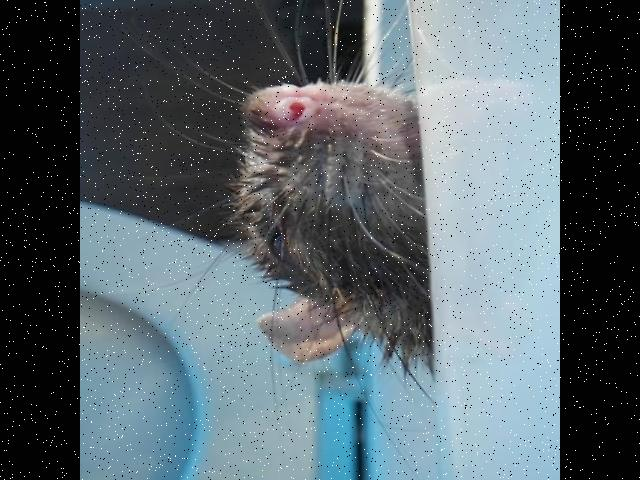Tikus: (201, 43, 419, 368)
